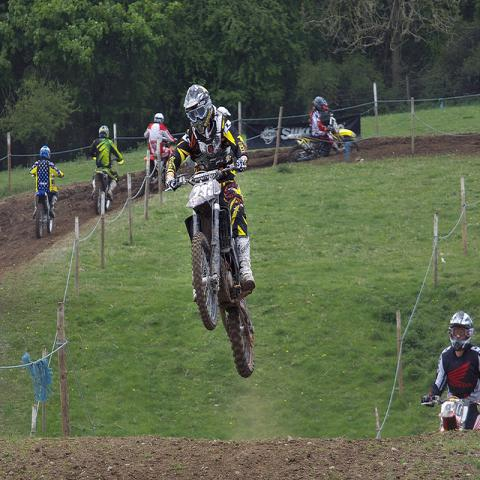motorcycle: (171, 160, 257, 374), (284, 111, 359, 160), (421, 396, 470, 430), (144, 137, 171, 193), (33, 195, 58, 243), (94, 171, 112, 215), (301, 132, 326, 154), (186, 200, 197, 232), (107, 158, 120, 181)
